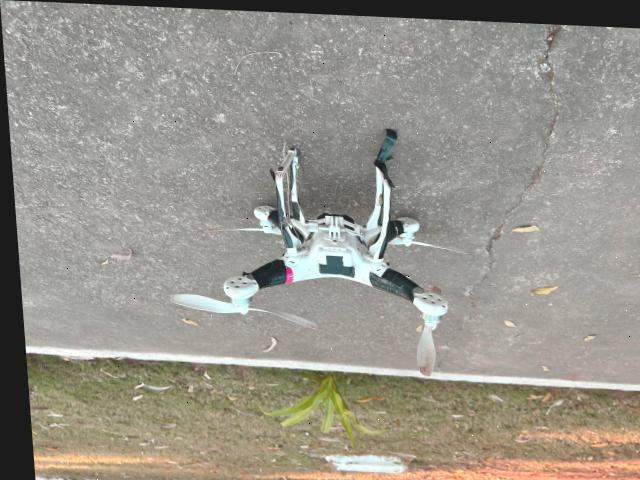drone: (107, 103, 548, 375)
